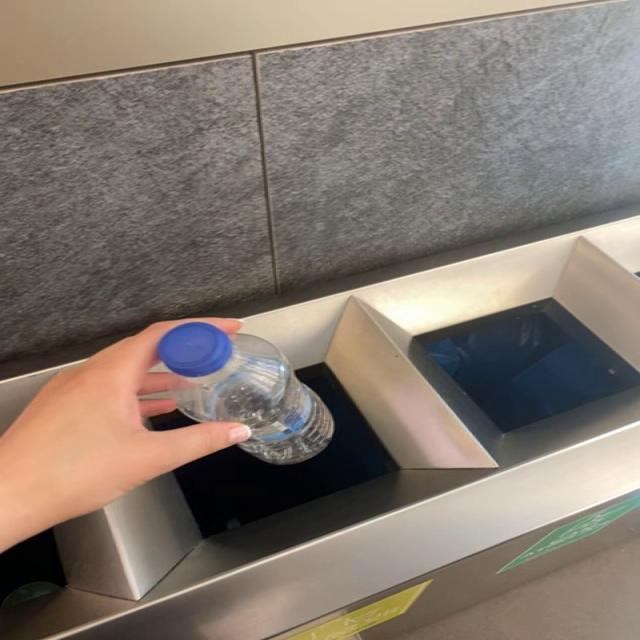Plastic: (156, 323, 335, 466)
